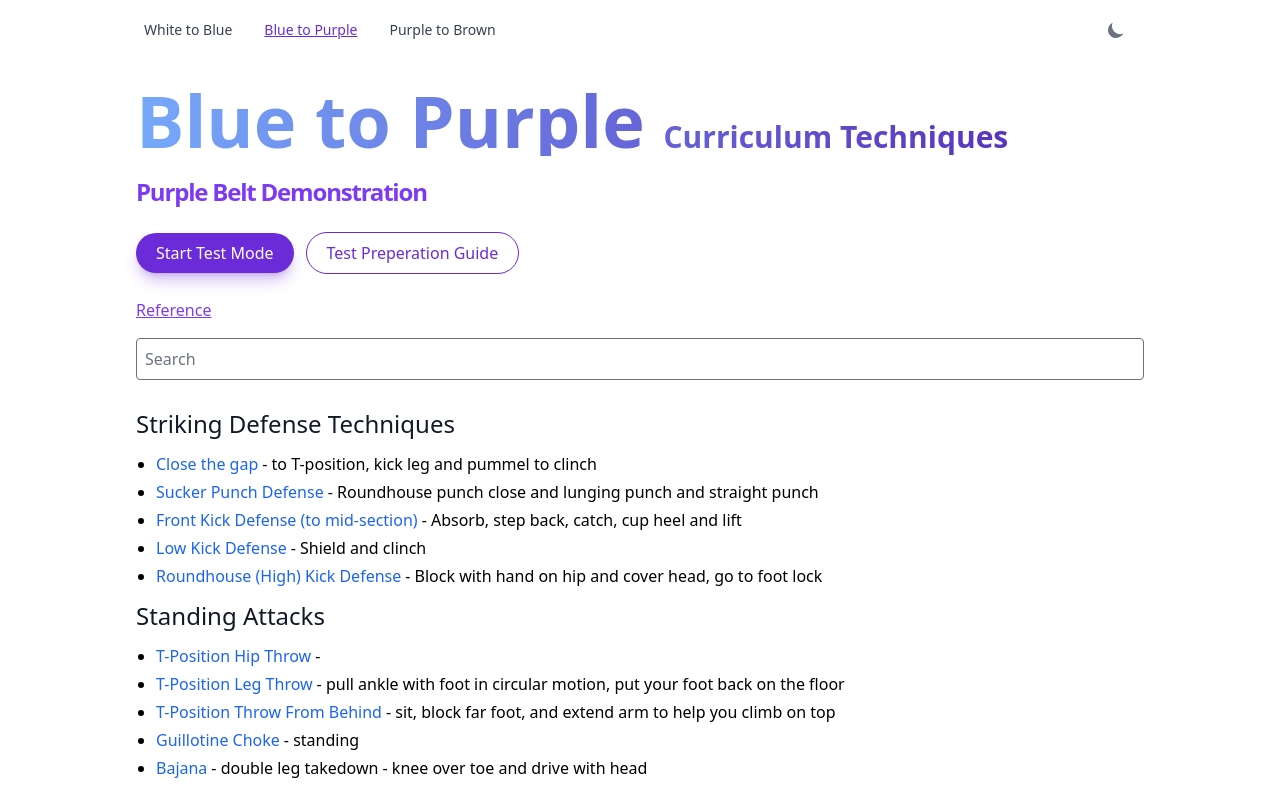
Test: filters moves based on search input
This screenshot has width=1280, height=792.
In the field with placeholder "Search": (640, 359) [136,338,1144,380], type "guillotine"
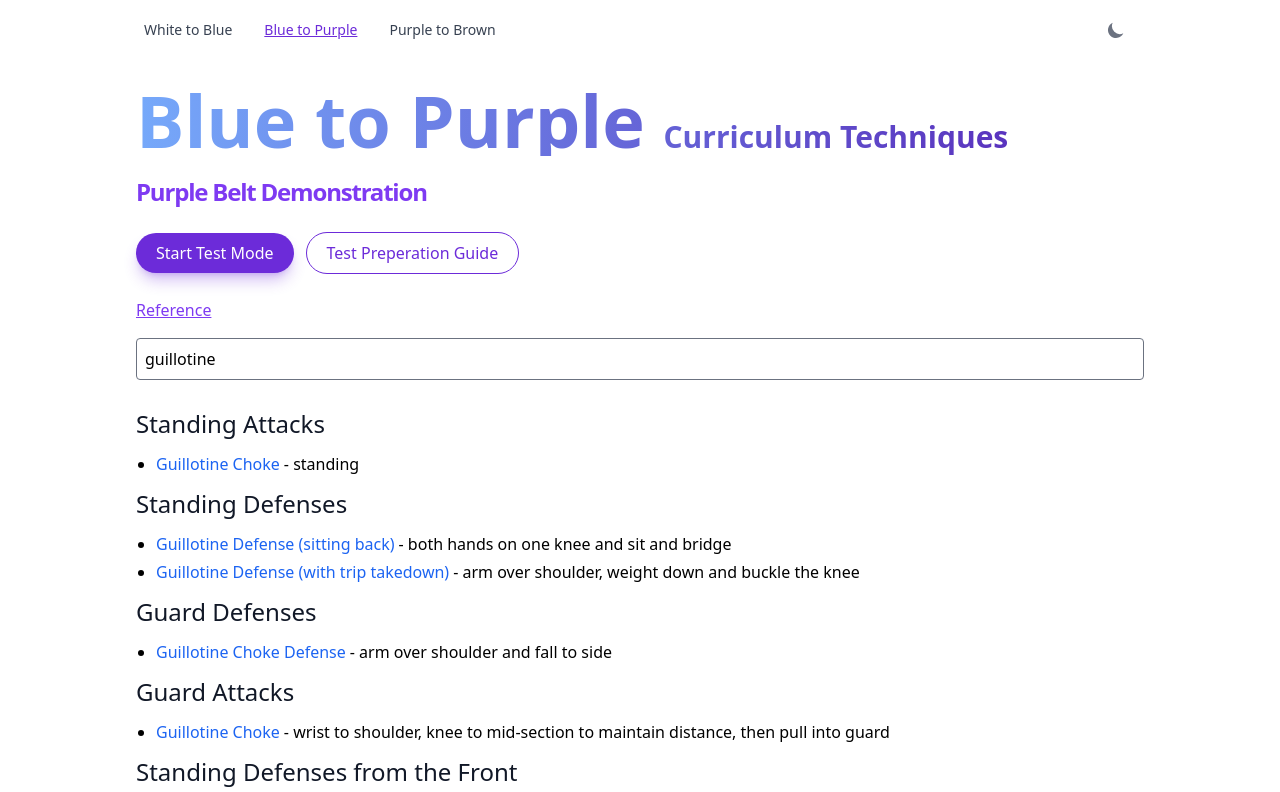
Expected: the text "Guillotine Choke" below "Standing Attacks" is shown, [156,453,280,475]
Result: the button "T-Position Hip Throw" is gone
